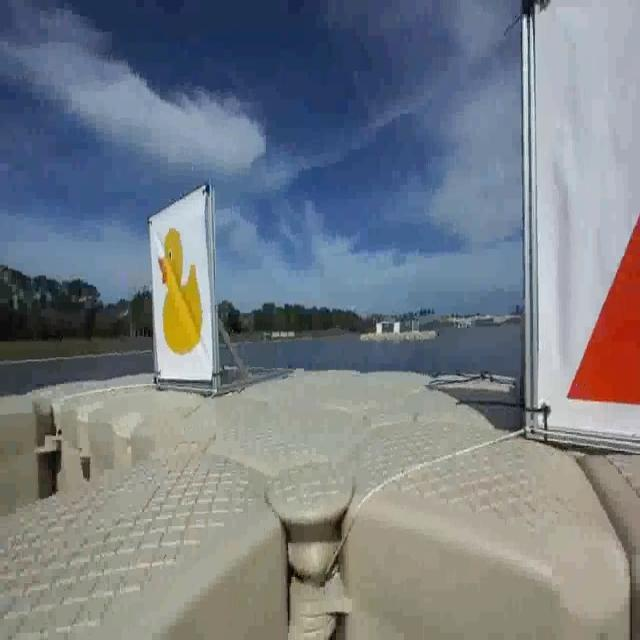red-dot: (528, 11, 640, 446)
yellow-duck: (151, 204, 212, 376)
